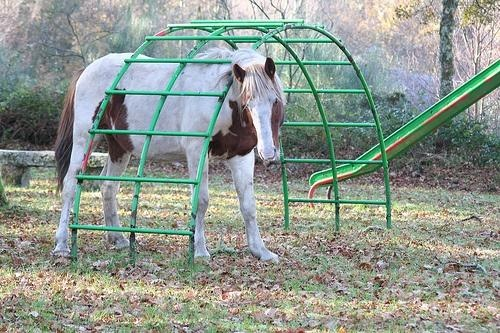horse: (54, 50, 285, 262)
